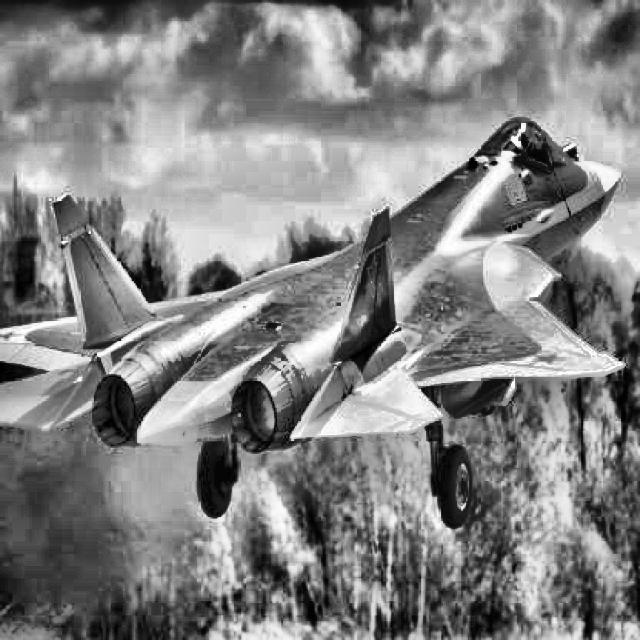Su57: (0, 116, 626, 530)
